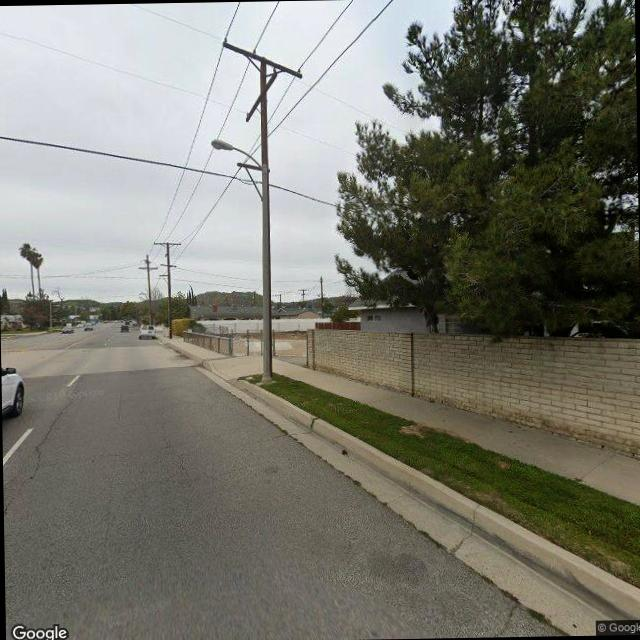pothole: (5, 382, 73, 507)
